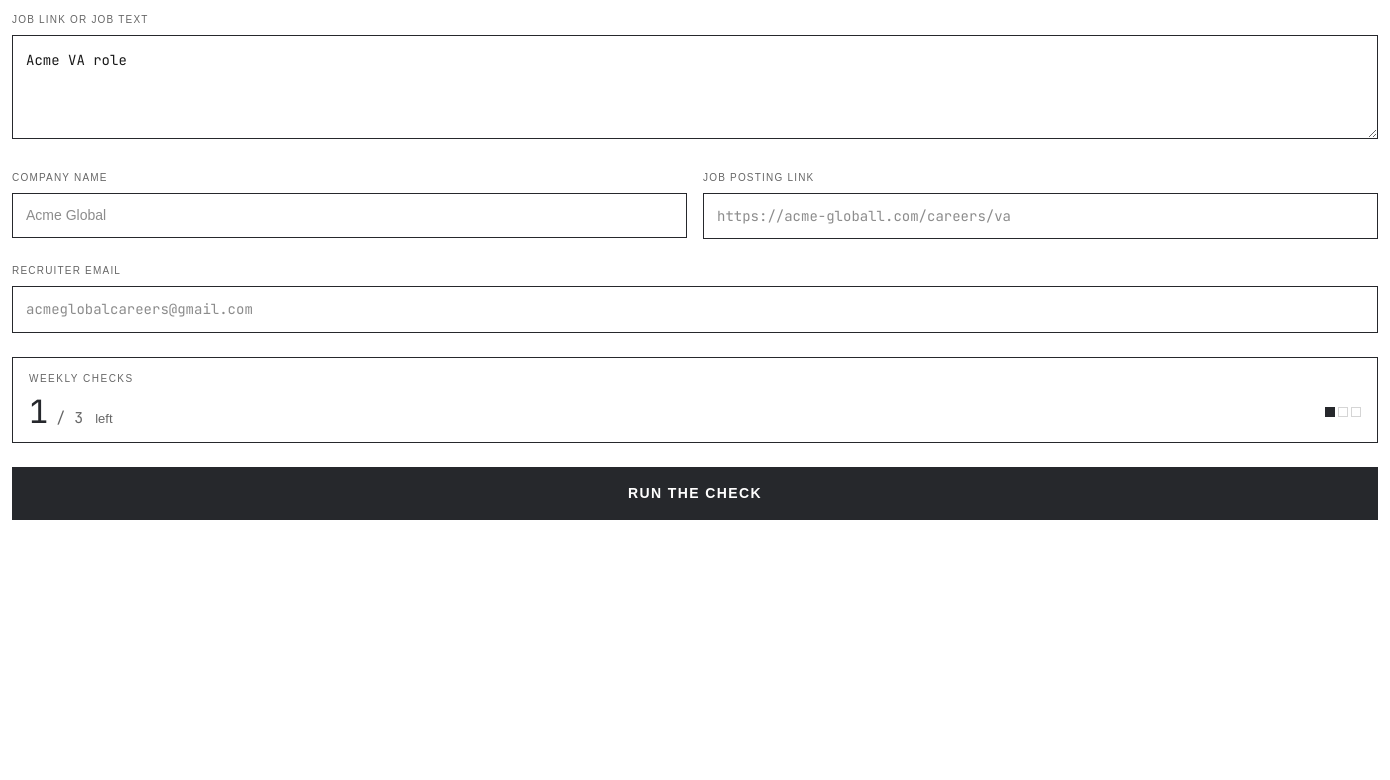
Scenario: NewCheckForm › maps a quota rejection on submit to the reset message
Click the button "RUN THE CHECK" at (695, 493), box [13,468,1377,519]
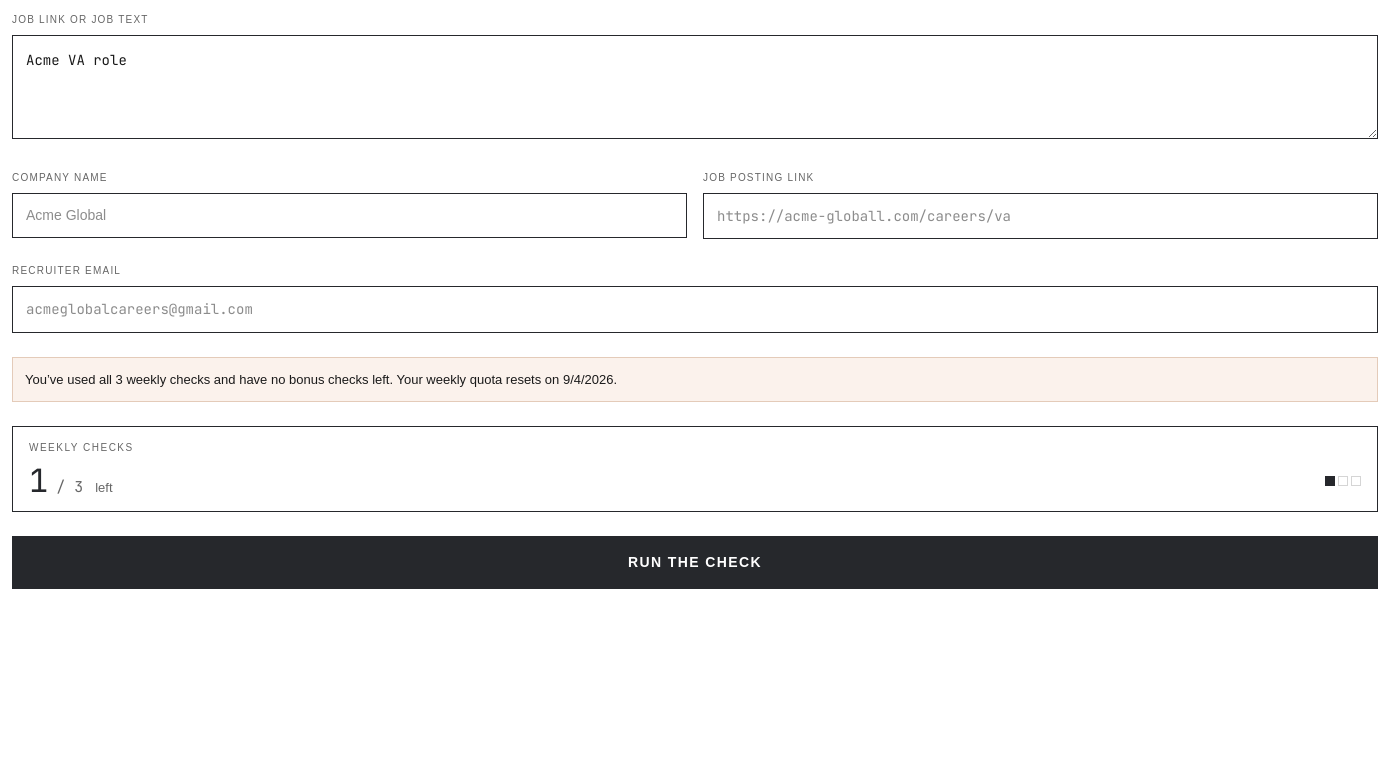
Expected: the text "used all 3 weekly checks" is shown, [25,372,617,387]
